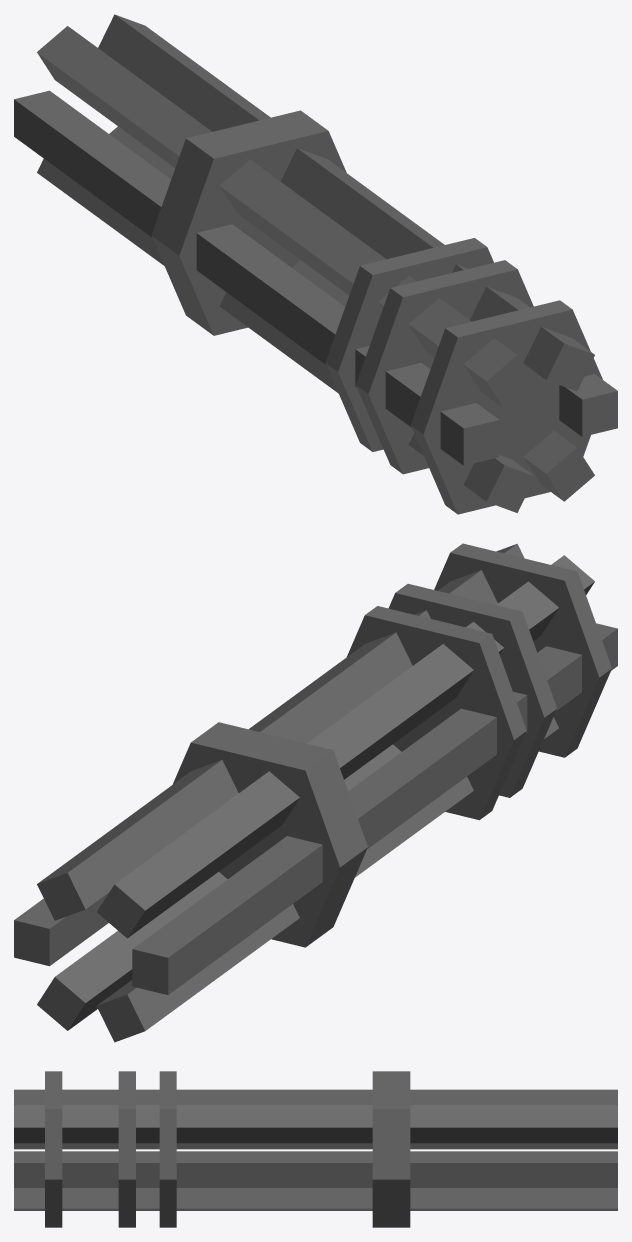
Rendered from mg_head.obj.
The picture shows the model from 3 angles, top to bottom: view 1: azimuth 30°, elevation 25°; view 2: azimuth 150°, elevation 25°; view 3: azimuth 270°, elevation 25°; orthographic projection. The views are drawn at different scales.
Parts seen in each view (by area): view 1: Cube.001; view 2: Cube.001; view 3: Cube.001.
Boxes of the visible parts, left/top/right/bottom form: Cube.001: left=14, top=14, right=617, bottom=514; Cube.001: left=14, top=543, right=617, bottom=1042; Cube.001: left=14, top=1071, right=617, bottom=1227.
Size of the model in its own units: 1.9 by 1.75 by 8.05.
Materials: 1 (1 with a texture image).
